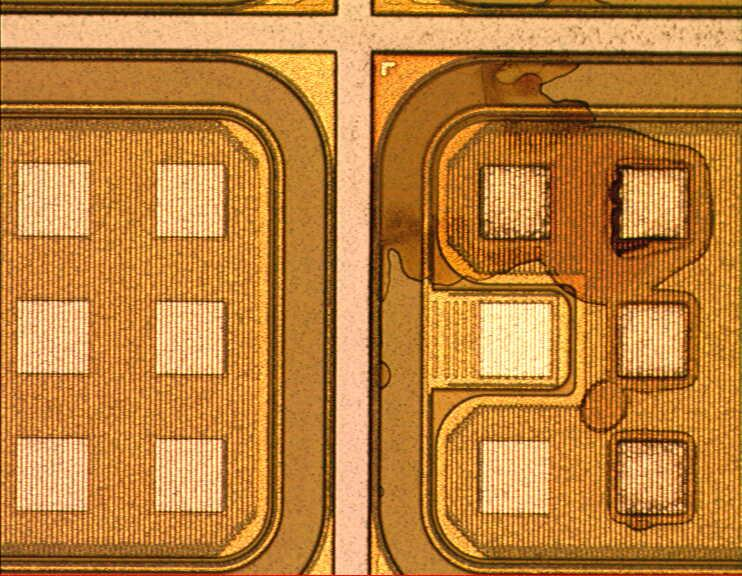SEZ BURNT: (373, 53, 719, 531)
